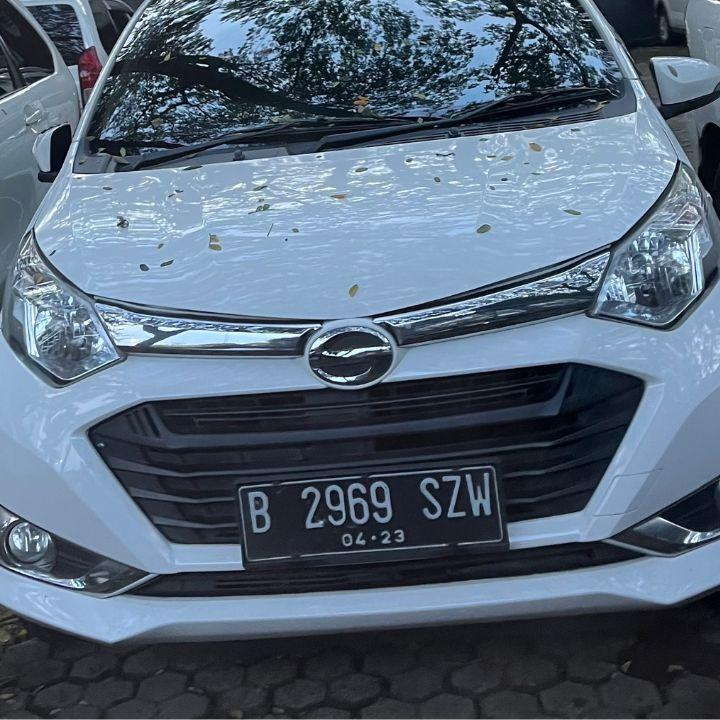plat: (239, 465, 506, 565)
